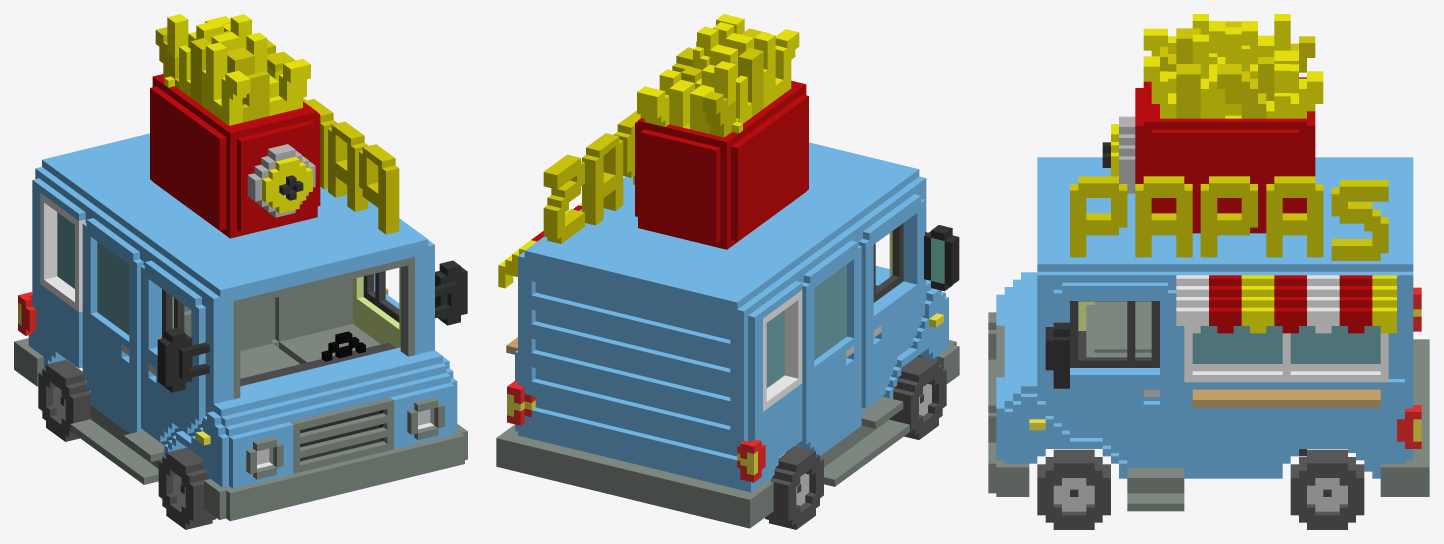
File: camion_papas.fbx
3 views of the same model, side by side, from view 1: azimuth 30°, elevation 25°; view 2: azimuth 150°, elevation 25°; view 3: azimuth 270°, elevation 25° (orthographic). The views are drawn at different scales.
Parts seen in each view (by area): view 1: camion_papas; view 2: camion_papas; view 3: camion_papas.
Part boxes in pixels (x1,y1,x2,y2): camion_papas: [14, 14, 467, 529]; camion_papas: [496, 14, 959, 529]; camion_papas: [988, 14, 1429, 529].
Bounding box in the file's own units: 450 × 590 × 540.
Materials: 1 (1 with a texture image).
